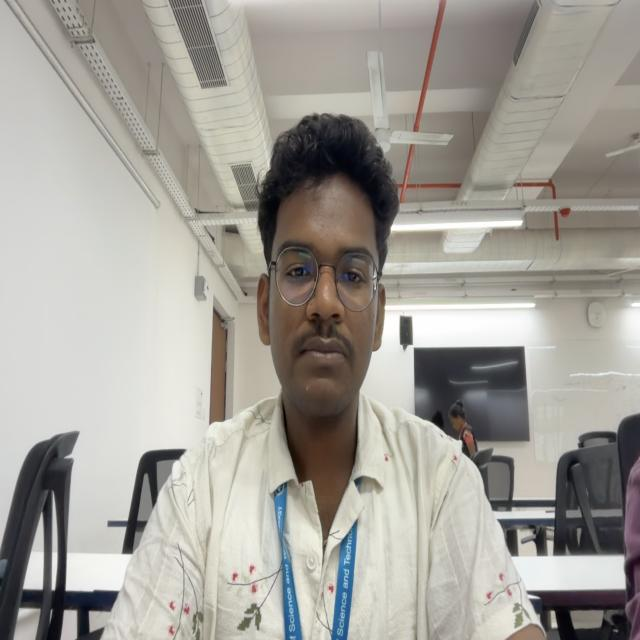sai: (255, 112, 386, 408)
